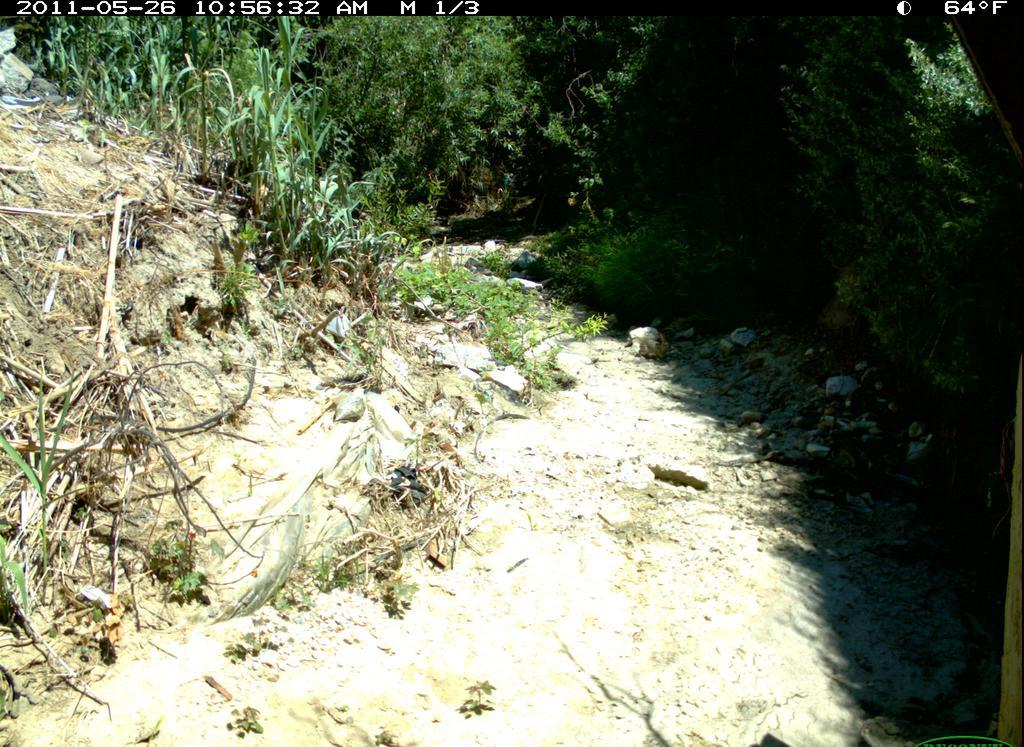rabbit: (633, 329, 674, 367)
